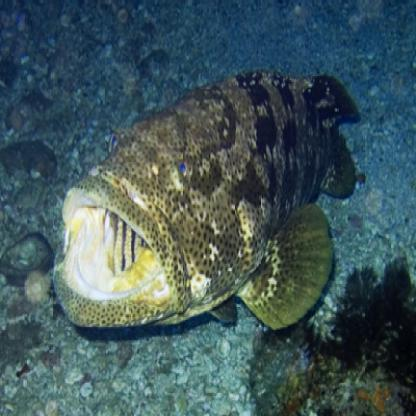Bio: (46, 60, 368, 334)
